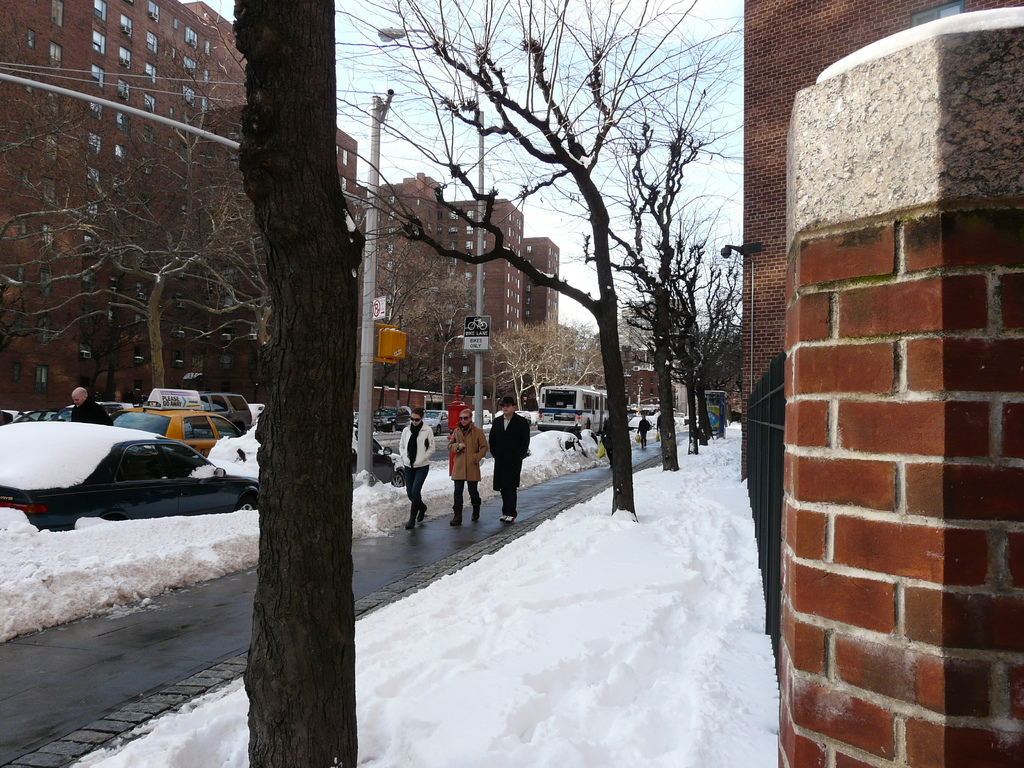Car: (106, 405, 248, 478), (424, 407, 450, 437)
